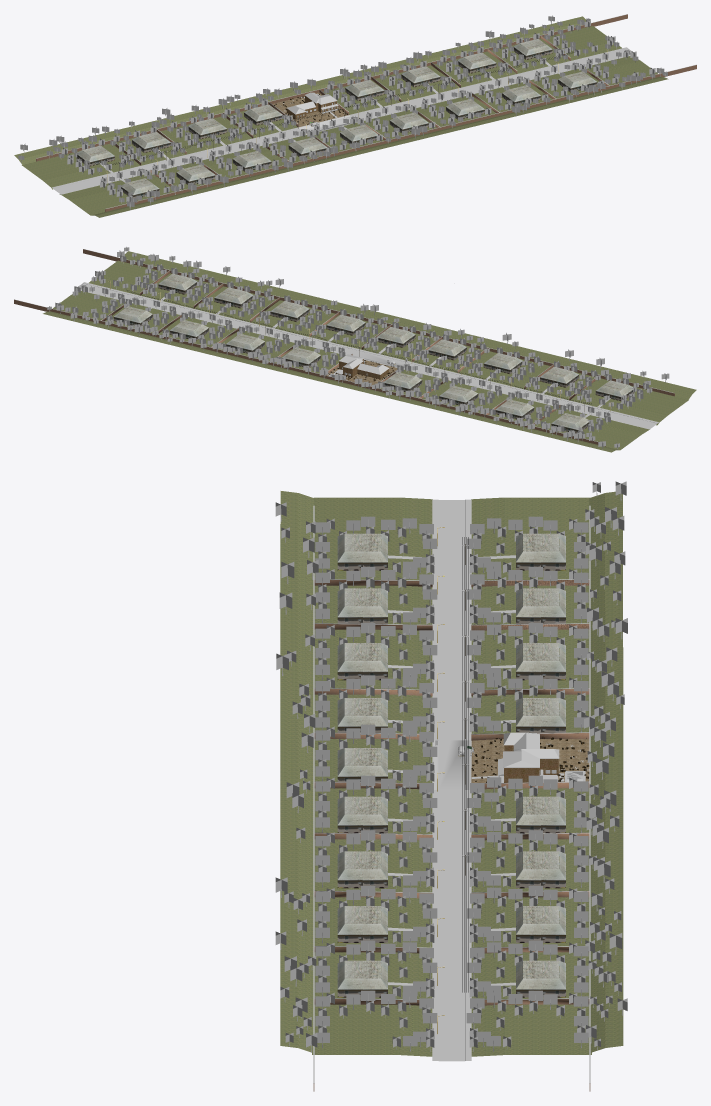
File: Abandoned_House.fbx
3 views of the same model, one above another, from view 1: azimuth 30°, elevation 25°; view 2: azimuth 150°, elevation 25°; view 3: azimuth 270°, elevation 25° (orthographic). The views are drawn at different scales.
Visible parts, largest first — view 1: Arboles.001, Arboles, Fondo, Plane.067, Plane.069, Carretera, Muro.001, Muro, Casa, Patio, Arboles.002; view 2: Arboles.001, Arboles, Fondo, Plane.067, Plane.069, Carretera, Muro.001, Muro, Casa, Arboles.002, Carretera.001, Patio; view 3: Arboles.001, Arboles, Fondo, Plane.069, Plane.067, Carretera, Muro, Arboles.002, Patio, Casa, Muro.001, Cylinder.001 (+2 smaller).
Boxes of the visible parts, x1,y1,x2,y2 form: Arboles.001: (58,20,655,203); Arboles: (14,15,668,217); Fondo: (77,39,597,197); Plane.067: (22,110,384,215); Plane.069: (323,26,661,138); Carretera: (52,47,631,194); Muro.001: (36,14,696,211); Muro: (112,35,609,190); Casa: (287,92,338,118); Patio: (272,92,348,126); Arboles.002: (313,116,382,150); Arboles.001: (55,255,652,436); Arboles: (43,247,696,452); Fondo: (113,273,634,433); Plane.067: (362,332,688,450); Plane.069: (49,260,387,373); Carretera: (79,282,658,429); Muro.001: (14,249,674,446); Muro: (101,270,599,423); Casa: (334,354,389,379); Arboles.002: (364,321,439,357); Carretera.001: (354,350,412,367); Patio: (326,360,397,386); Arboles.001: (315,516,588,1051); Arboles: (275,481,627,1052); Fondo: (337,533,565,997); Plane.069: (312,788,591,1056); Plane.067: (314,497,589,782); Carretera: (432,499,471,1061); Muro: (314,579,589,1005); Arboles.002: (315,724,437,782); Patio: (471,739,589,782); Casa: (498,732,559,782); Muro.001: (313,505,590,1091); Cylinder.001: (462,537,468,992).
Bounding box in the file's own units: 52545 × 1496 × 20445.
